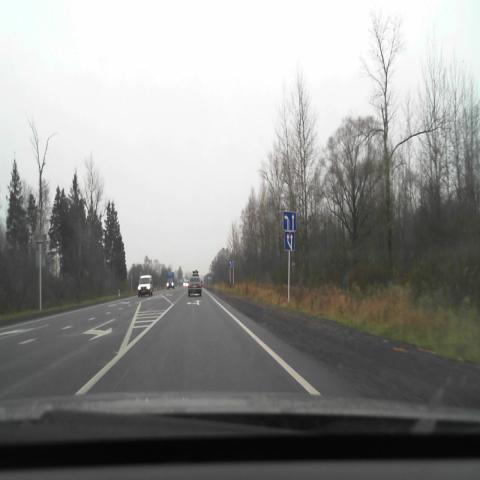5_15_2_2: (283, 210, 296, 230)
